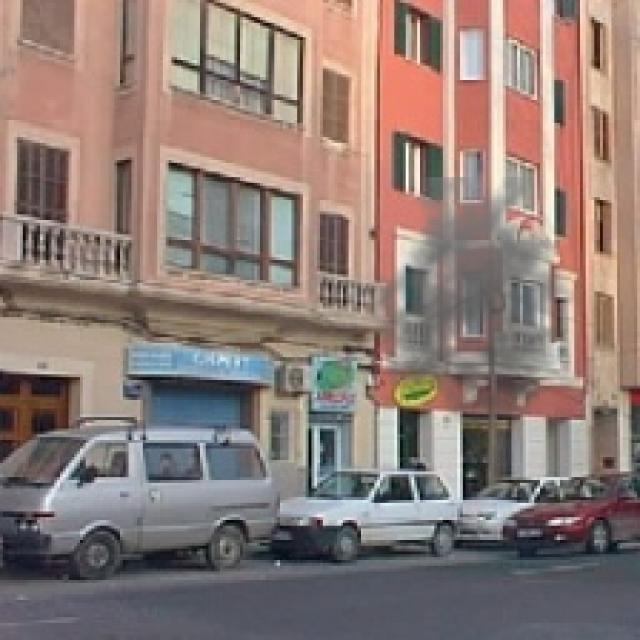smoke: (363, 177, 591, 429)
